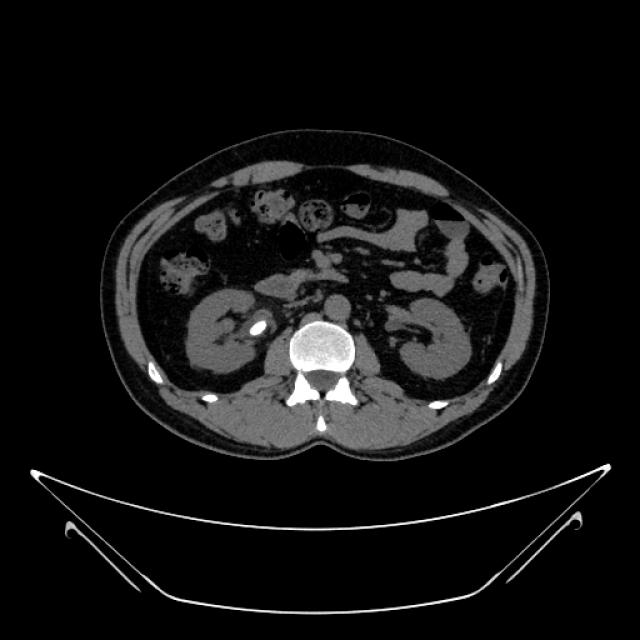kidney: (181, 289, 277, 373), (388, 296, 472, 381)
stone: (249, 316, 270, 340)
